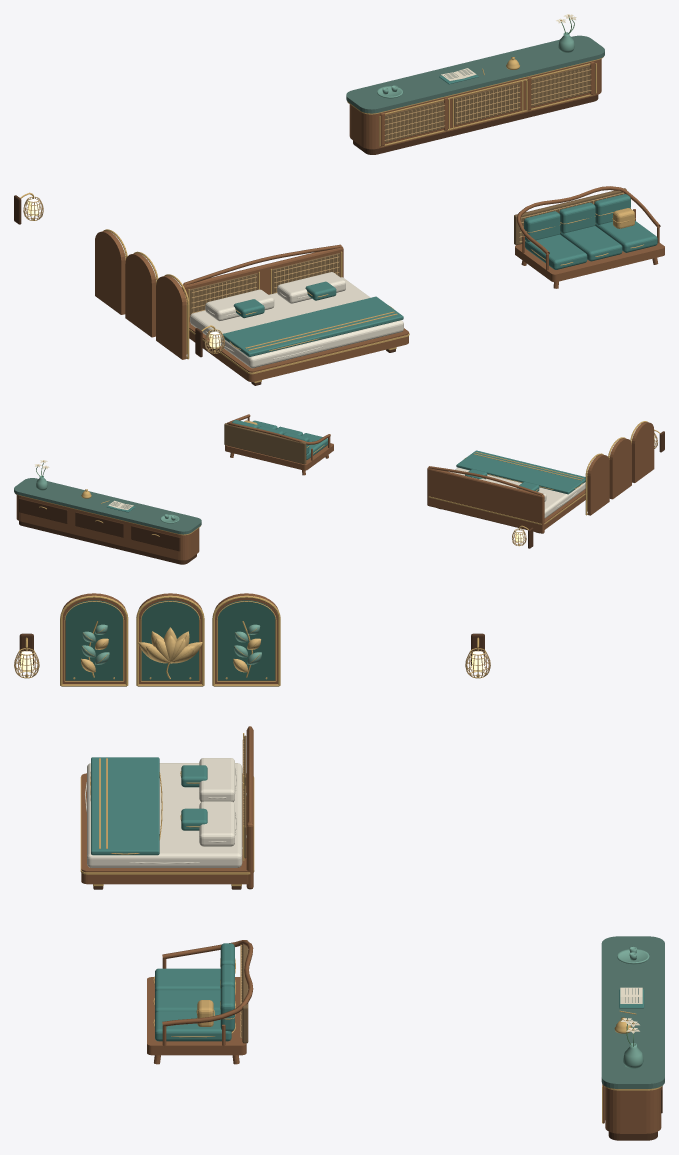
File: hotel-furnishings.glb
3 views of the same model, one above another, from view 1: azimuth 30°, elevation 25°; view 2: azimuth 150°, elevation 25°; view 3: azimuth 270°, elevation 25° (orthographic). The views are drawn at different scales.
Parts seen in each view (by area): view 1: GuestBedMesh, ReceptionMesh, LobbySofaMesh, BedroomWallCraftMesh, ReceptionObjectsMesh; view 2: ReceptionMesh, GuestBedMesh, BedroomWallCraftMesh, LobbySofaMesh, ReceptionObjectsMesh; view 3: GuestBedMesh, BedroomWallCraftMesh, ReceptionMesh, LobbySofaMesh, ReceptionObjectsMesh.
Part boxes in pixels (x1,y1,x2,y2): GuestBedMesh: [181, 244, 409, 385]; ReceptionMesh: [346, 35, 604, 154]; LobbySofaMesh: [514, 186, 664, 288]; BedroomWallCraftMesh: [14, 192, 224, 359]; ReceptionObjectsMesh: [377, 14, 576, 98]; ReceptionMesh: [14, 478, 201, 564]; GuestBedMesh: [427, 450, 585, 533]; BedroomWallCraftMesh: [512, 421, 664, 548]; LobbySofaMesh: [224, 414, 333, 475]; ReceptionObjectsMesh: [34, 460, 179, 523]; GuestBedMesh: [80, 726, 254, 889]; BedroomWallCraftMesh: [14, 593, 490, 686]; ReceptionMesh: [601, 936, 664, 1140]; LobbySofaMesh: [147, 940, 253, 1064]; ReceptionObjectsMesh: [614, 946, 649, 1068].
Bounding box in the file's own units: 15.8 × 3.03 × 11.11.
